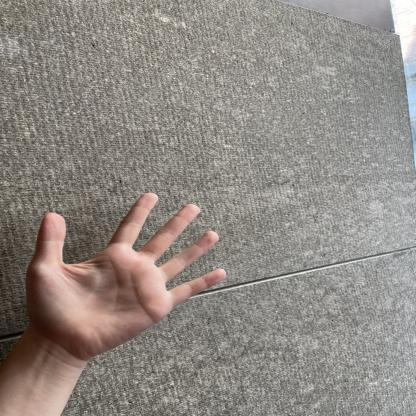bare_hand: (17, 186, 244, 365)
